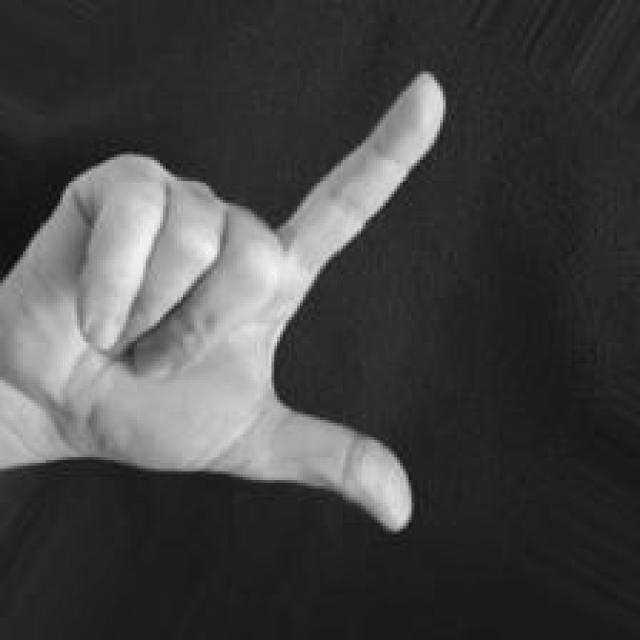L: (0, 69, 451, 541)
